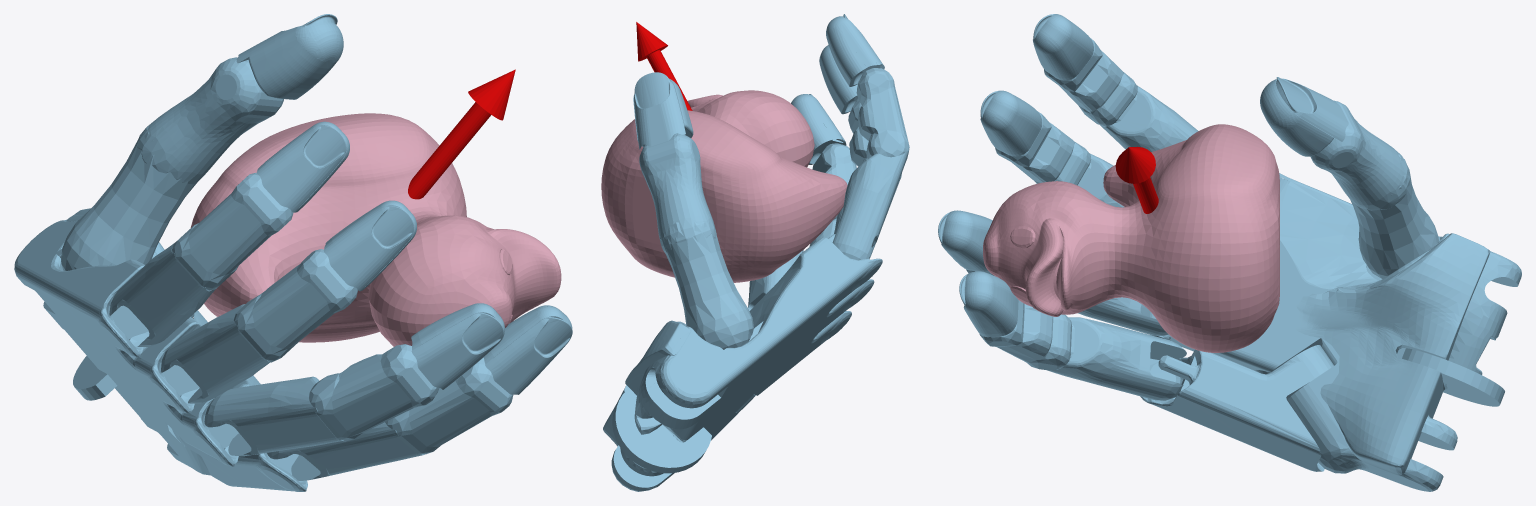
3 renders of one model, left to right at view 1: azimuth 30°, elevation 25°; view 2: azimuth 150°, elevation 25°; view 3: azimuth 270°, elevation 25°, orthographic. The views are drawn at different scales.
Visible parts, largest first — view 1: world, rubber_duck.stl; view 2: world, rubber_duck.stl; view 3: world, rubber_duck.stl.
Part boxes in pixels (box(x1,y1,x2,y2)): world: box(14, 14, 572, 491); rubber_duck.stl: box(190, 113, 561, 346); world: box(603, 14, 909, 491); rubber_duck.stl: box(601, 90, 847, 282); world: box(938, 14, 1521, 491); rubber_duck.stl: box(983, 124, 1279, 352).
Bounding box in the file's own units: 0.1234 × 0.1595 × 0.1885.
